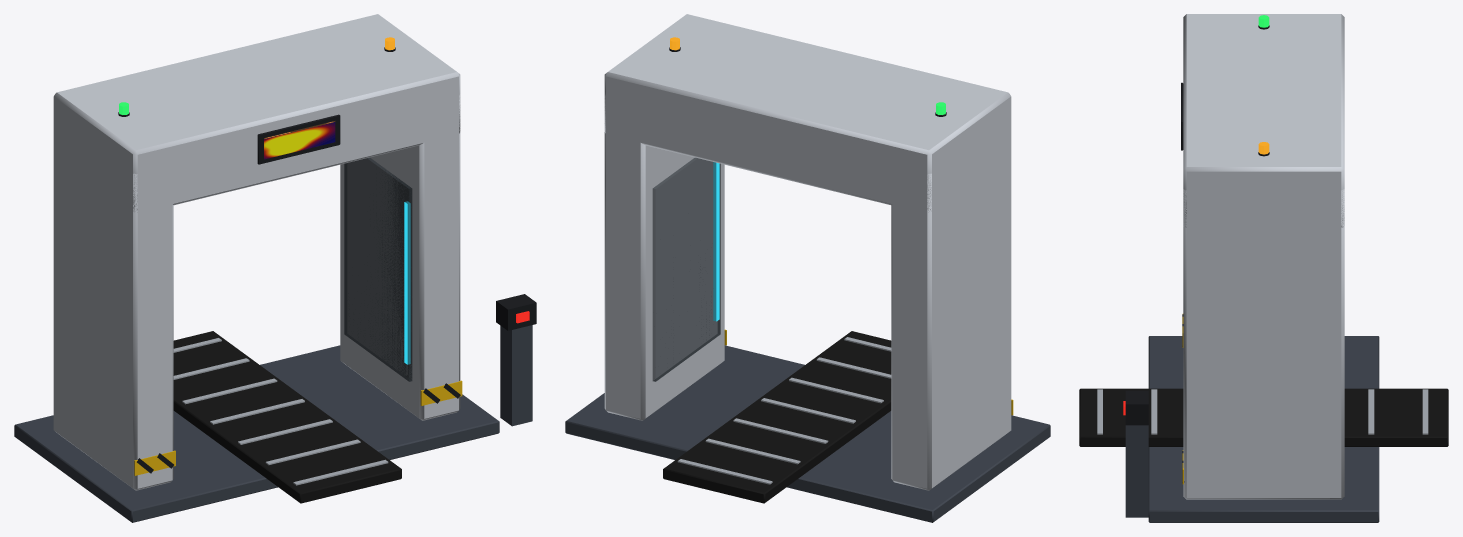
File: loader_cargo_scanner_arch.glb
3 views of the same model, side by side, from view 1: azimuth 30°, elevation 25°; view 2: azimuth 150°, elevation 25°; view 3: azimuth 270°, elevation 25° (orthographic). The views are drawn at different scales.
Visible parts, largest first — view 1: loader_cargo_scanner_arch; view 2: loader_cargo_scanner_arch; view 3: loader_cargo_scanner_arch.
Boxes of the visible parts, left/top/right/bottom form: loader_cargo_scanner_arch: left=14, top=14, right=536, bottom=522; loader_cargo_scanner_arch: left=565, top=14, right=1050, bottom=522; loader_cargo_scanner_arch: left=1079, top=14, right=1448, bottom=522.
Bounding box in the file's own units: 3.84 × 3.39 × 3.2.
12 materials, 1 textured.
